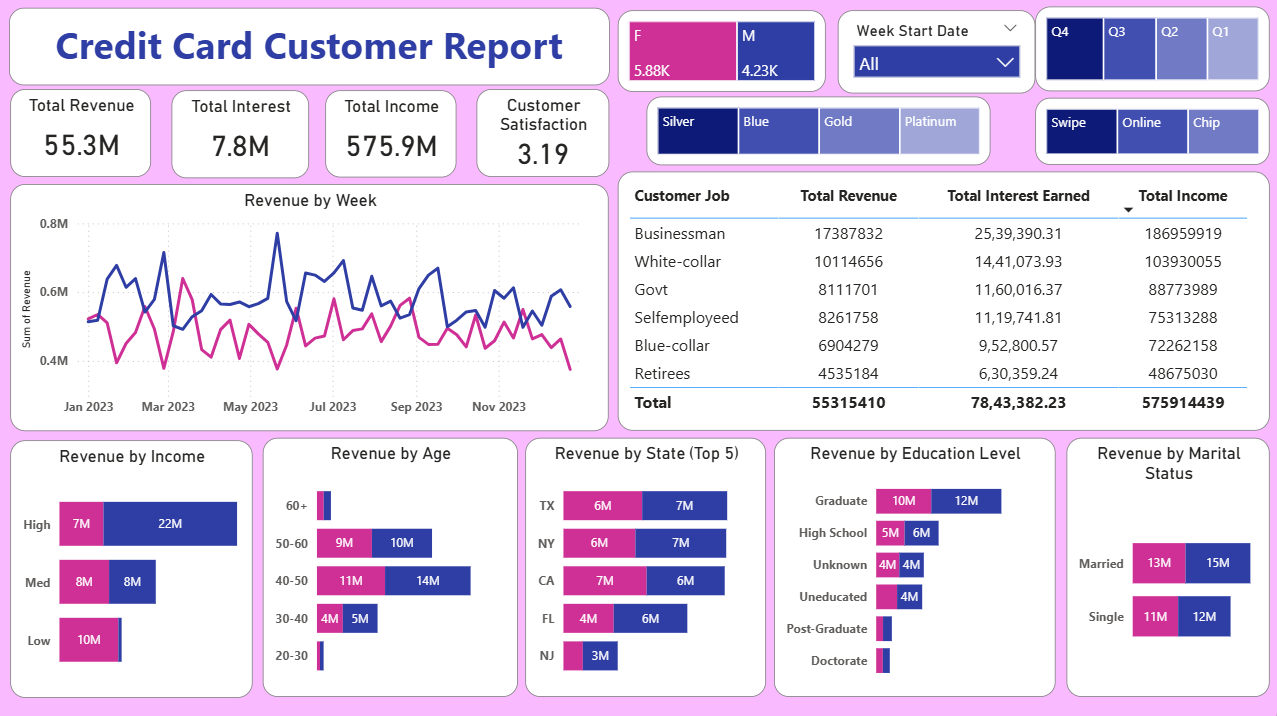

The dashboard page shown, as its layout file describes it:
{"tool":"powerbi","page":{"name":"CC Customer","canvas":[1280,720],"ordinal":1},"visuals":[{"type":"textbox","box":[9.7,8.4,600.8,77.2],"z":0},{"type":"barChart","title":"Revenue by Income","fields":{"Y":["Sum(public card_detail.Revenue)"],"Category":["public customer_detail.IncomeGroup"],"Series":["public customer_detail.gender"]},"box":[10.9,440.8,242.3,257.9],"z":1000},{"type":"tableEx","fields":{"Values":["public customer_detail.customer_job","Sum(public card_detail.Revenue)","Sum(public card_detail.interest_earned)","Sum(public customer_detail.income)"]},"box":[619.1,172,651.9,259.5],"z":2000},{"type":"card","title":"Total Revenue","fields":{"Values":["Sum(public card_detail.Revenue)"]},"box":[10.9,90.5,141.2,88.1],"z":3000},{"type":"card","title":"Total Interest","fields":{"Values":["Sum(public card_detail.interest_earned)"]},"box":[172.5,91.7,137.5,88.1],"z":4000},{"type":"card","title":"Total Income","fields":{"Values":["Sum(public customer_detail.income)"]},"box":[326.7,90.7,131.3,87.5],"z":5000},{"type":"card","title":"Customer Satisfaction","fields":{"Values":["Avg(public customer_detail.cust_satisfaction_score)"]},"box":[477.8,90.5,132.7,88.1],"z":6000},{"type":"slicer","fields":{"Values":["public card_detail.week_start_date"]},"box":[838.5,10.9,197.9,83.2],"z":7000},{"type":"treemap","fields":{"Group":["public card_detail.qtr"],"Values":["Avg(public card_detail.client_num)"]},"box":[1036.3,7.2,234,84.5],"z":8000},{"type":"treemap","fields":{"Values":["Avg(public card_detail.client_num)"],"Group":["public card_detail.card_category"]},"box":[647.2,96.9,343.9,68.8],"z":9000},{"type":"lineChart","title":"Revenue by Week","fields":{"Y":["Sum(public card_detail.Revenue)"],"Series":["public customer_detail.gender"],"Category":["public card_detail.week_start_date.Variation.Date Hierarchy.Year","public card_detail.week_start_date.Variation.Date Hierarchy.Month","public card_detail.week_start_date.Variation.Date Hierarchy.Day"]},"box":[10.9,184.5,598.7,247],"z":10000},{"type":"treemap","fields":{"Group":["public customer_detail.gender"],"Values":["CountNonNull(public customer_detail.gender)"]},"box":[619.1,10.9,207.9,81.3],"z":11000},{"type":"barChart","title":"Revenue by Age","fields":{"Y":["Sum(public card_detail.Revenue)"],"Series":["public customer_detail.gender"],"Category":["public customer_detail.AgeGroup"]},"box":[264.2,439.3,254.8,259.5],"z":12000},{"type":"barChart","title":"Revenue by Marital Status","fields":{"Y":["Sum(public card_detail.Revenue)"],"Series":["public customer_detail.gender"],"Category":["public customer_detail.marital_status"]},"box":[1067.7,439.3,203.2,259.5],"z":13000},{"type":"barChart","title":"Revenue by Education Level","fields":{"Y":["Sum(public card_detail.Revenue)"],"Series":["public customer_detail.gender"],"Category":["public customer_detail.education_level"]},"box":[775.4,439.3,281.4,259.5],"z":14000},{"type":"barChart","title":"Revenue by State (Top 5)","fields":{"Y":["Sum(public card_detail.Revenue)"],"Series":["public customer_detail.gender"],"Category":["public customer_detail.state_cd"]},"box":[526.8,439.3,240.7,259.5],"z":15000},{"type":"treemap","fields":{"Values":["Avg(public card_detail.client_num)"],"Group":["public card_detail.use_chip"]},"box":[1036.4,98.5,234.5,67.2],"z":16000}]}

Visuals, with their boxes in screenshot pixels (x1, y1, x2, y2), scaled from the page's 1280x720 canvas onto the 1277x716 screenshot:
textbox: [left=10, top=8, right=609, bottom=85]
"Revenue by Income" barChart: [left=11, top=438, right=253, bottom=695]
tableEx - public customer_detail.customer_job x Sum(public card_detail.Revenue): [left=618, top=171, right=1268, bottom=429]
"Total Revenue" card: [left=11, top=90, right=152, bottom=178]
"Total Interest" card: [left=172, top=91, right=309, bottom=179]
"Total Income" card: [left=326, top=90, right=457, bottom=177]
"Customer Satisfaction" card: [left=477, top=90, right=609, bottom=178]
slicer - public card_detail.week_start_date: [left=837, top=11, right=1034, bottom=94]
treemap - public card_detail.qtr x Avg(public card_detail.client_num): [left=1034, top=7, right=1267, bottom=91]
treemap - Avg(public card_detail.client_num) x public card_detail.card_category: [left=646, top=96, right=989, bottom=165]
"Revenue by Week" lineChart: [left=11, top=183, right=608, bottom=429]
treemap - public customer_detail.gender x CountNonNull(public customer_detail.gender): [left=618, top=11, right=825, bottom=92]
"Revenue by Age" barChart: [left=264, top=437, right=518, bottom=695]
"Revenue by Marital Status" barChart: [left=1065, top=437, right=1268, bottom=695]
"Revenue by Education Level" barChart: [left=774, top=437, right=1054, bottom=695]
"Revenue by State (Top 5)" barChart: [left=526, top=437, right=766, bottom=695]
treemap - Avg(public card_detail.client_num) x public card_detail.use_chip: [left=1034, top=98, right=1268, bottom=165]
